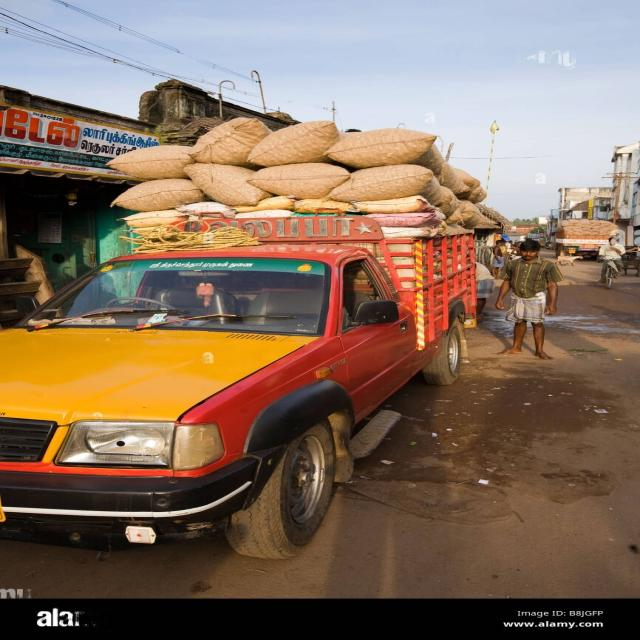truck: (0, 118, 498, 558)
